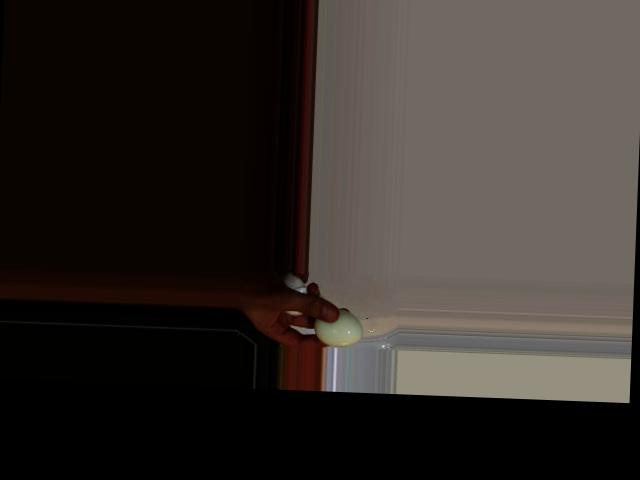egg: (314, 307, 362, 348)
